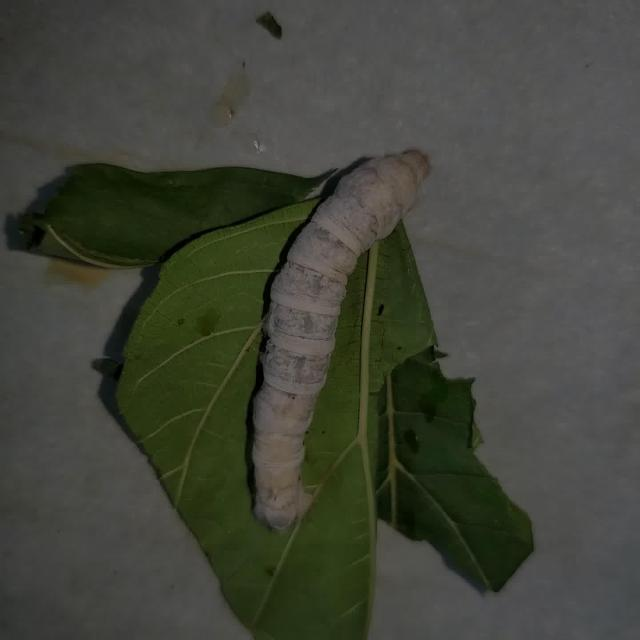Grasserie: (230, 111, 444, 566)
